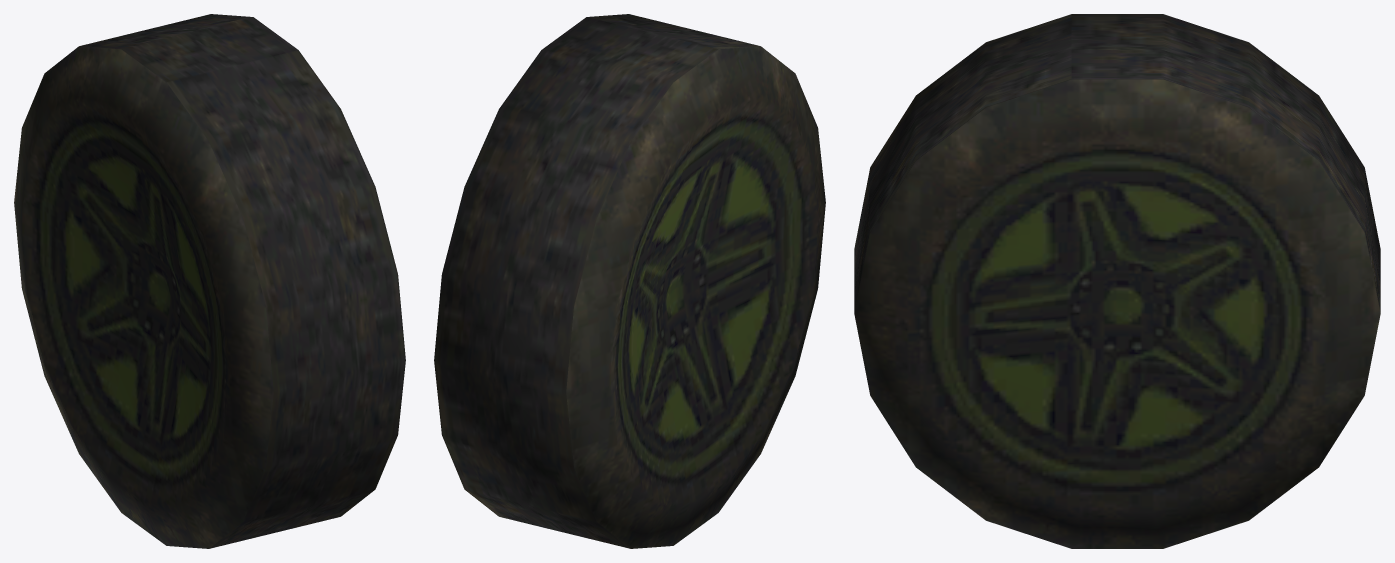
File: buggy_wheel.obj
The picture shows the model from 3 angles, left to right: view 1: azimuth 30°, elevation 25°; view 2: azimuth 150°, elevation 25°; view 3: azimuth 270°, elevation 25°; orthographic projection.
Visible parts, largest first — view 1: wheel_Cylinder01x.012; view 2: wheel_Cylinder01x.012; view 3: wheel_Cylinder01x.012.
Boxes of the visible parts, x1,y1,x2,y2 form: wheel_Cylinder01x.012: (14,14,405,548); wheel_Cylinder01x.012: (434,14,825,548); wheel_Cylinder01x.012: (854,14,1380,548).
Bounding box in the file's own units: 0.7576 × 2 × 2.03.
1 material, 1 textured.
